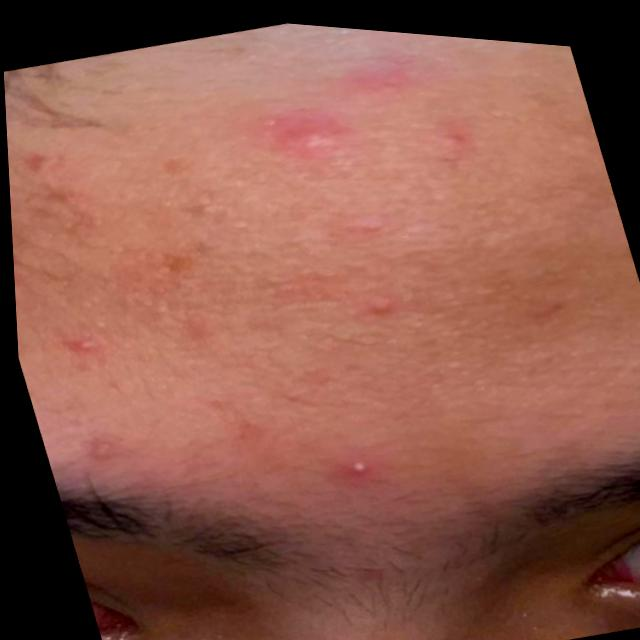papule: (237, 31, 494, 172)
pustule: (57, 329, 111, 362), (341, 455, 380, 481)
